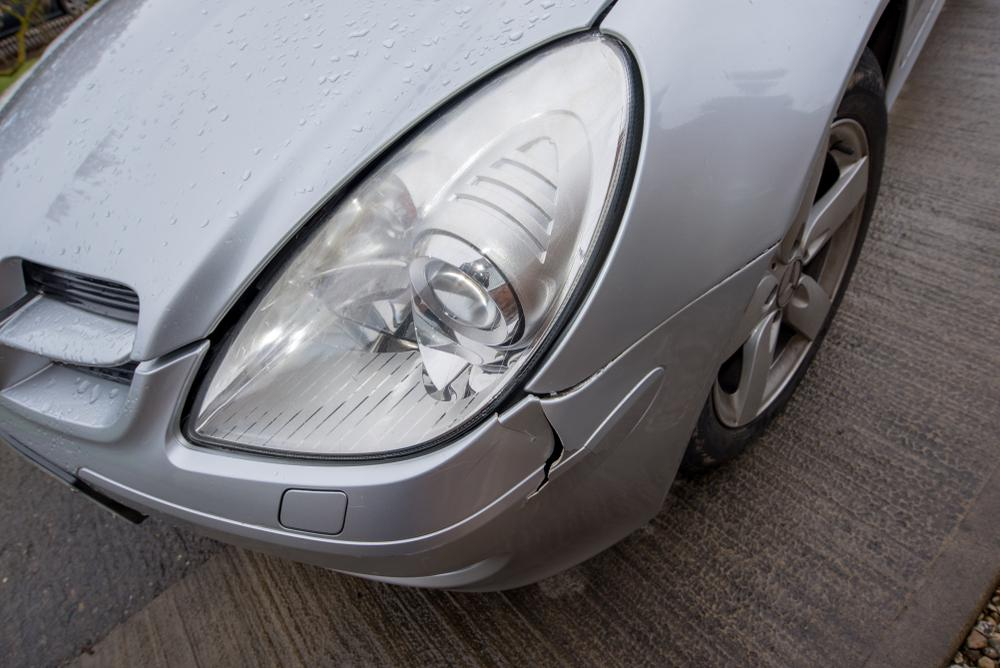crack: (525, 399, 604, 506), (462, 417, 535, 477)
